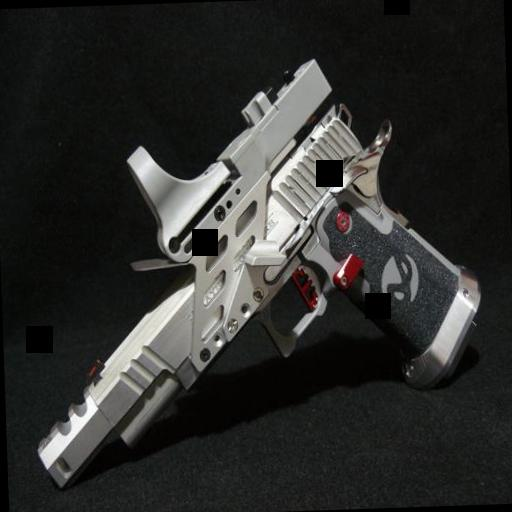Handgun: (21, 50, 487, 494)
